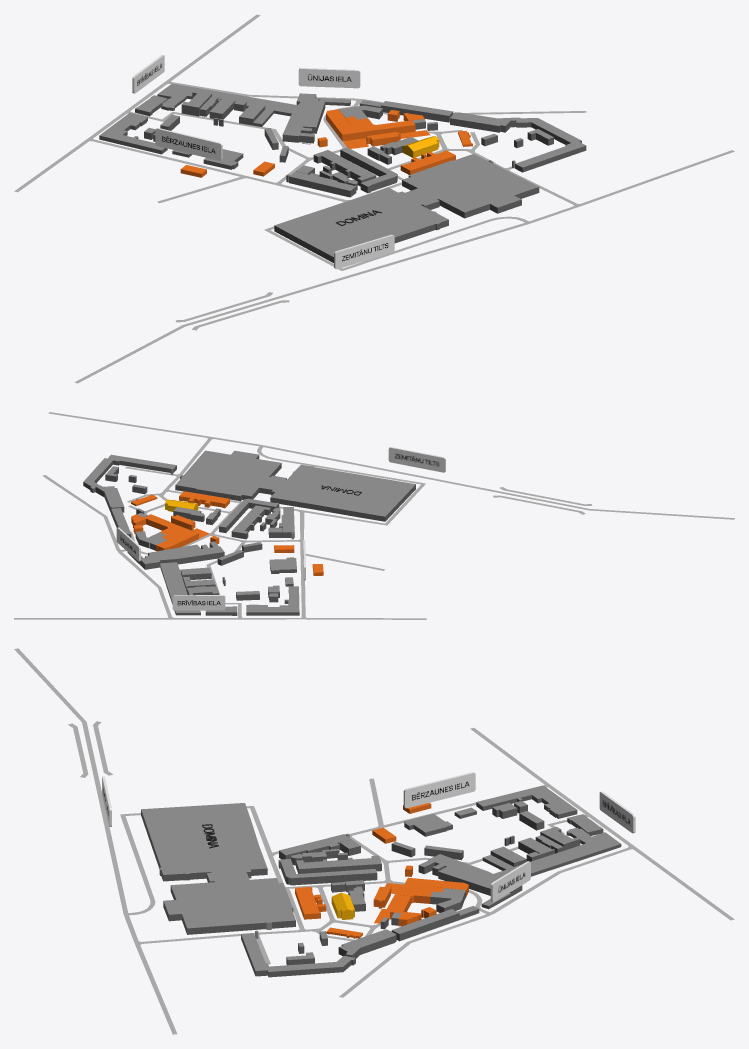
Rendered from MAP-VEF-V5.glb.
3 renders of one model, top to bottom at view 1: azimuth 30°, elevation 25°; view 2: azimuth 150°, elevation 25°; view 3: azimuth 270°, elevation 25°, orthographic. The views are drawn at different scales.
Parts seen in each view (by area): view 1: OTHER, DOMINA, ROAD.005, ZIME-BERZAUNES-IELA, ZIME-UNIJAS-IELA, ZIME-ZEMITANU, 2, ZIME-BRIVIBAS-IELA; view 2: OTHER, DOMINA, ROAD.005, ZIME-ZEMITANU, ZIME-BRIVIBAS-IELA, 2, 7, ZIME-UNIJAS-IELA; view 3: OTHER, DOMINA, ROAD.005, ZIME-BERZAUNES-IELA, ZIME-UNIJAS-IELA, ZIME-BRIVIBAS-IELA, 2.
Boxes of the visible parts, x1,y1,x2,y2 form: OTHER: [99, 83, 586, 197]; DOMINA: [274, 154, 539, 262]; ROAD.005: [14, 14, 734, 383]; ZIME-BERZAUNES-IELA: [155, 128, 222, 160]; ZIME-UNIJAS-IELA: [298, 68, 360, 88]; ZIME-ZEMITANU: [334, 234, 394, 269]; 2: [400, 150, 455, 174]; ZIME-BRIVIBAS-IELA: [132, 55, 164, 93]; OTHER: [83, 454, 299, 615]; DOMINA: [175, 450, 415, 521]; ROAD.005: [14, 412, 734, 619]; ZIME-ZEMITANU: [388, 447, 445, 472]; ZIME-BRIVIBAS-IELA: [172, 595, 225, 610]; 2: [179, 491, 229, 508]; 7: [156, 530, 198, 551]; ZIME-UNIJAS-IELA: [116, 527, 140, 561]; OTHER: [241, 785, 621, 977]; DOMINA: [141, 803, 295, 934]; ROAD.005: [14, 648, 734, 1034]; ZIME-BERZAUNES-IELA: [403, 772, 475, 808]; ZIME-UNIJAS-IELA: [490, 861, 530, 902]; ZIME-BRIVIBAS-IELA: [599, 791, 635, 833]; 2: [295, 887, 326, 919].
Bounding box in the file's own units: 7.66 × 0.2869 × 6.04.
Materials: 7 (1 with a texture image).
